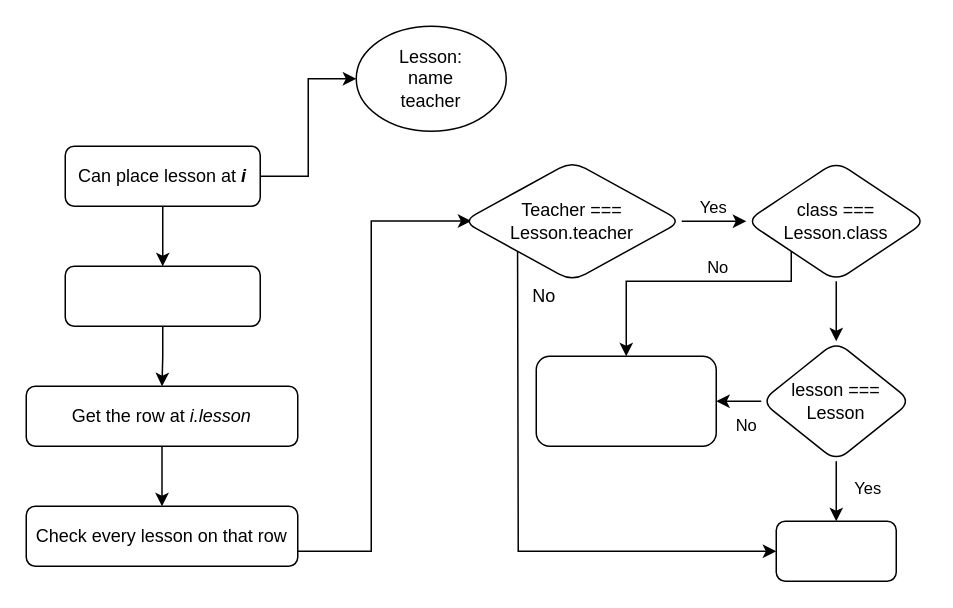
Some shapes in this 953 by 608 pixel diagram are drawn without their labels. The centre of each missing label's shape, as x and y in pixels:
"False" goes at (625,400).
"Get the day at i.day" goes at (162,295).
"True" goes at (835,550).
